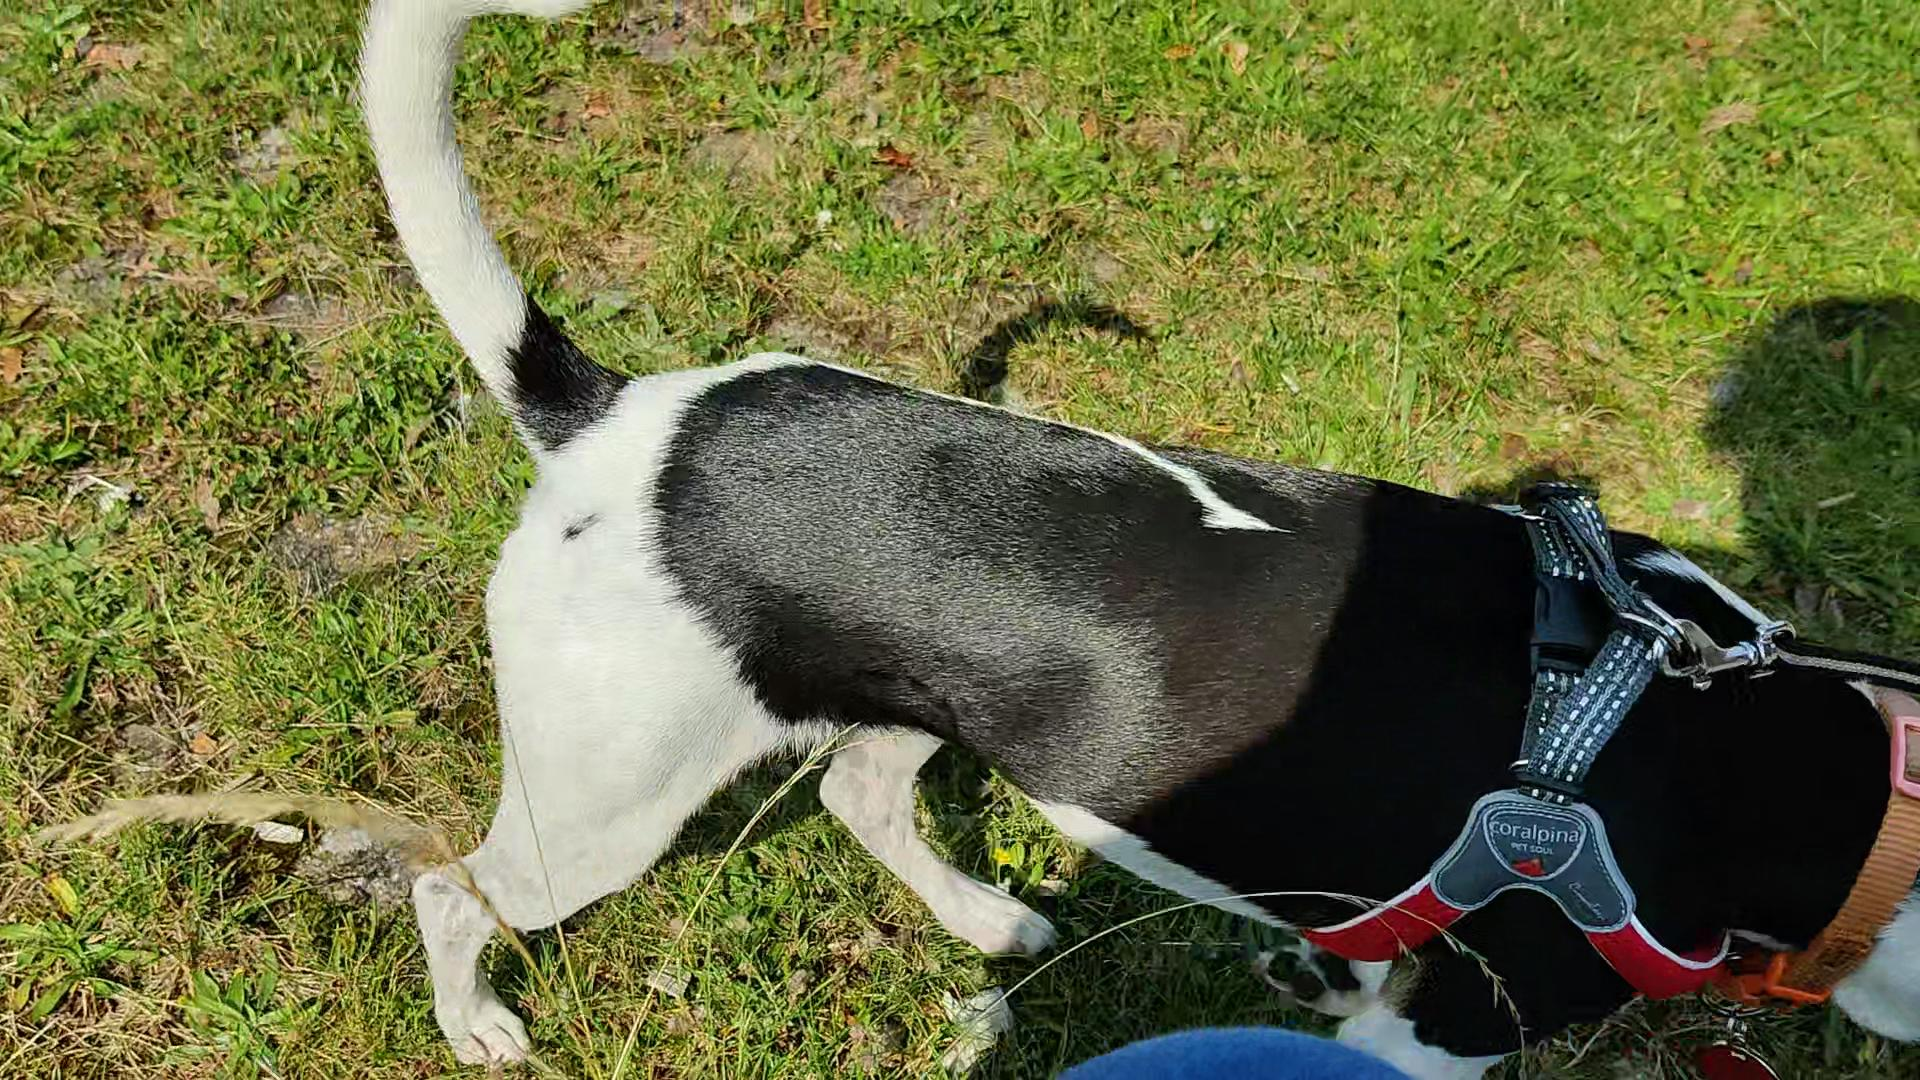Dog: (349, 0, 1919, 1079)
